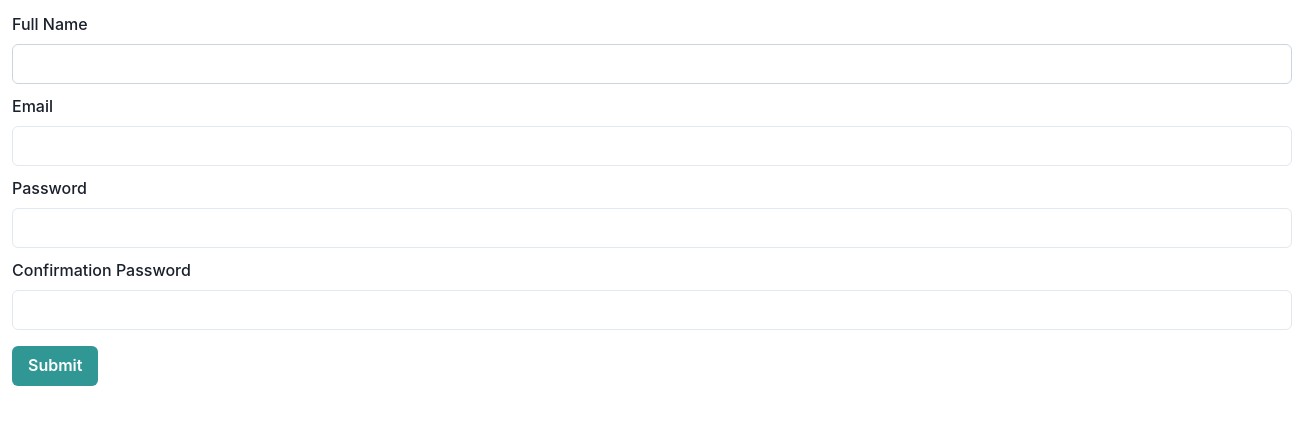
Test case: SignUpForm › should display password error message if password is incorrectly formatted
# enter asdf into email input (invalid email)
Step 1. Type "asdf" into the 1st password field → (652, 228), box [12,208,1292,248]
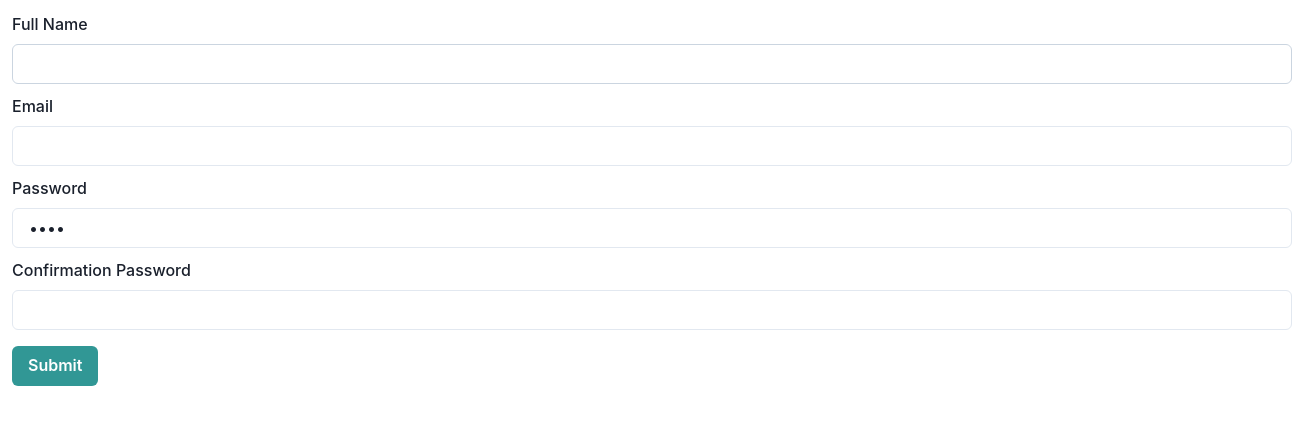
# dispatch blur event
Step 2. Leave the 1st password field, box [12,208,1292,248]
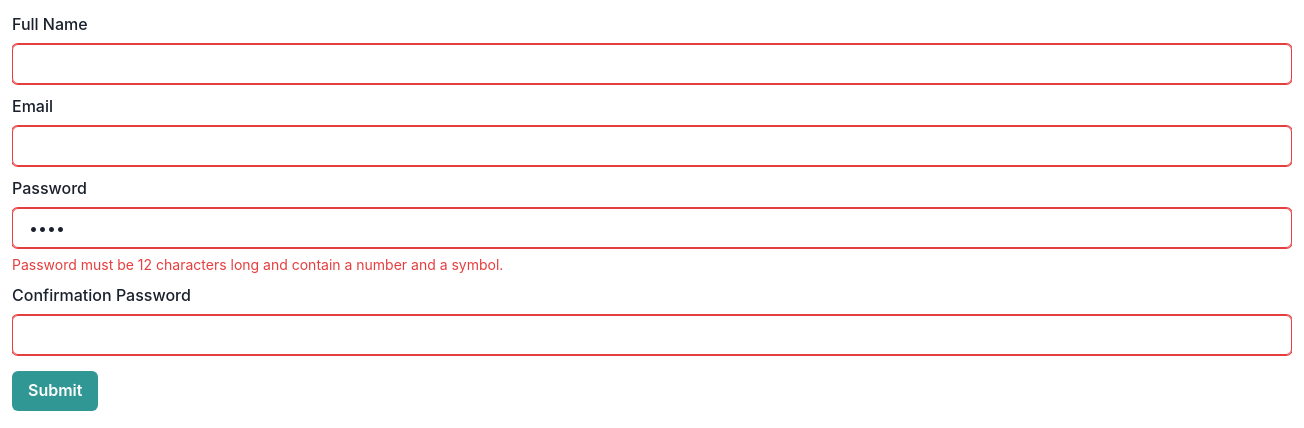
Result: the text "Password must be 12 characters long and contain a number and a symbol." is shown at [12,256,503,273]
